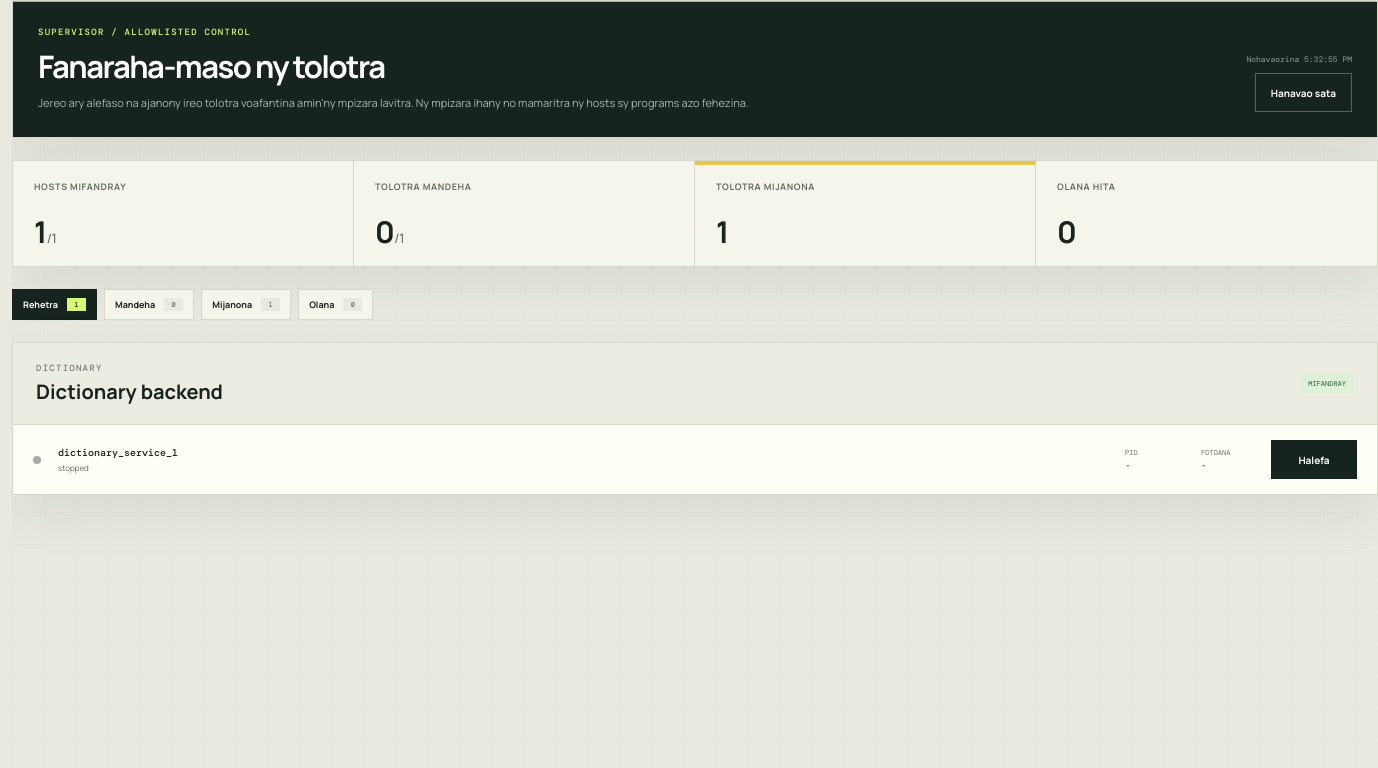
Scenario: ServicesWorkspace › confirms and starts an allowlisted stopped service
The width and height of the screenshot is (1378, 768).
Click the button "Halefa" at {"x": 1314, "y": 460}, box x1=1271 y1=440 x2=1357 y2=479
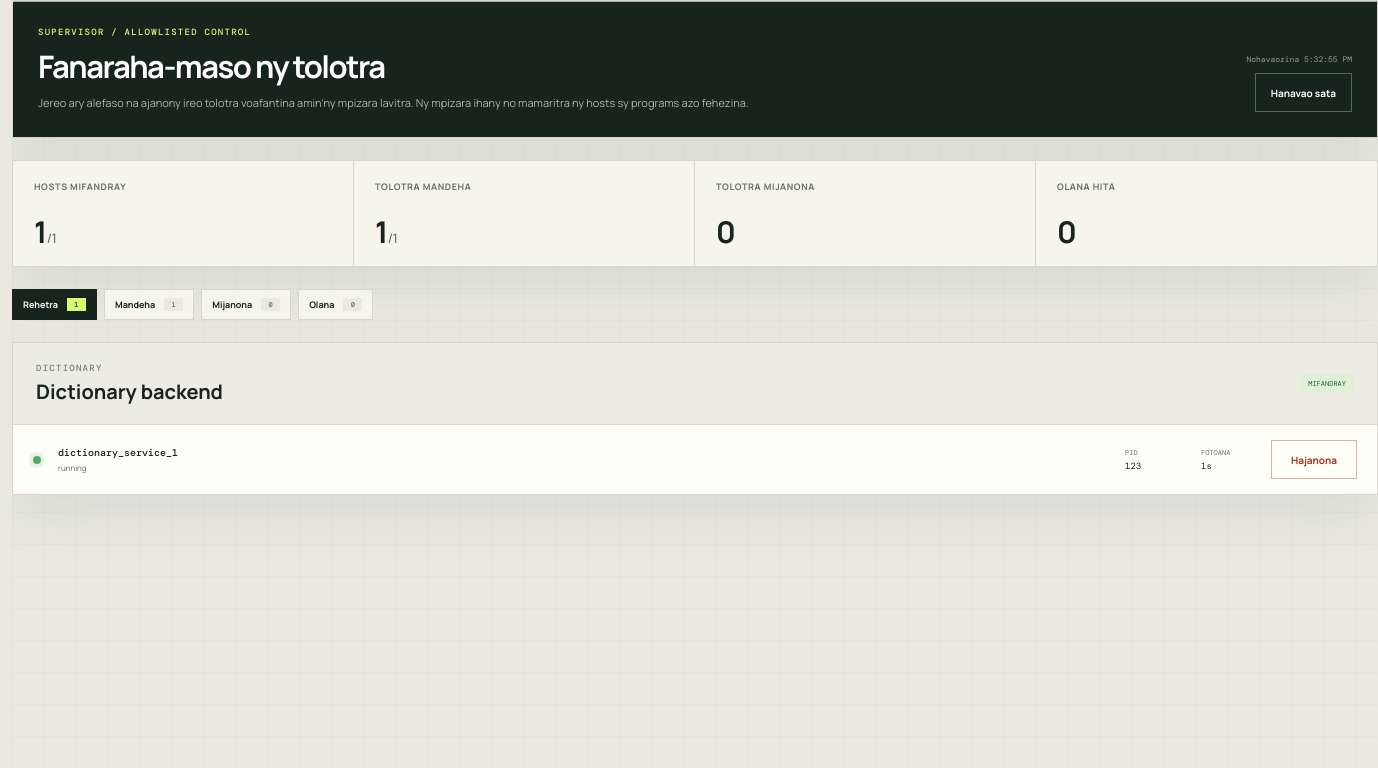
Result: the button "Hajanona" is shown at x1=1271 y1=440 x2=1357 y2=479
